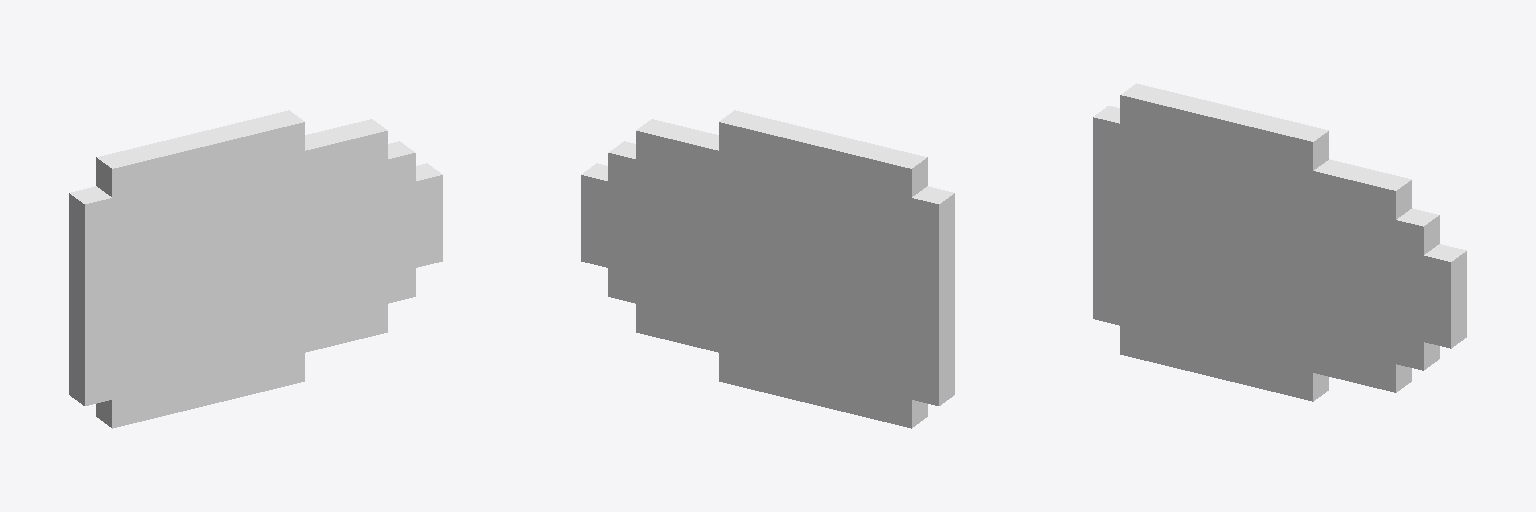
The model's file is Bulet.obj.
3 renders of one model, left to right at view 1: azimuth 30°, elevation 25°; view 2: azimuth 150°, elevation 25°; view 3: azimuth 330°, elevation 25°, orthographic.
Parts seen in each view (by area): view 1: object 1; view 2: object 1; view 3: object 1.
Boxes of the visible parts, x1=… form: object 1: x1=69, y1=110, x2=442, y2=428; object 1: x1=581, y1=110, x2=954, y2=428; object 1: x1=1093, y1=83, x2=1466, y2=401.
Size of the model in its own units: 1.3 by 0.9 by 0.1.